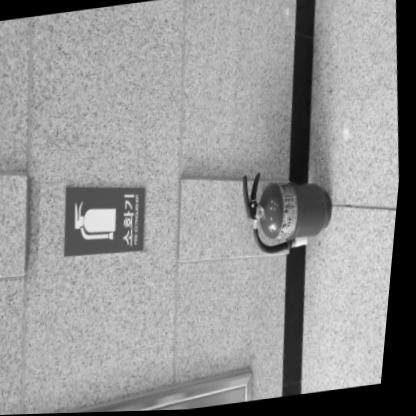FE: (238, 166, 340, 259)
